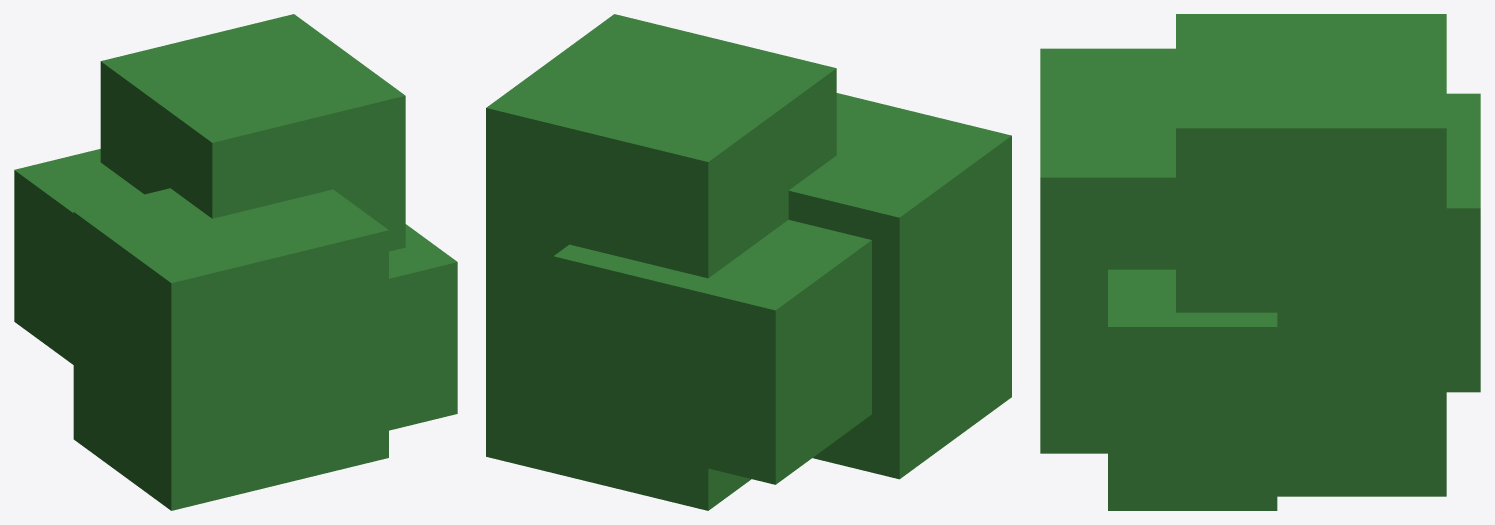
Rendered from Medieval Assets-8-Vegetation - Tree top - Cube - Light Green.obj.
3 renders of one model, left to right at view 1: azimuth 30°, elevation 25°; view 2: azimuth 150°, elevation 25°; view 3: azimuth 270°, elevation 25°, orthographic. The views are drawn at different scales.
Parts seen in each view (by area): view 1: Vegetation - Tree top - Cube - Light Green; view 2: Vegetation - Tree top - Cube - Light Green; view 3: Vegetation - Tree top - Cube - Light Green.
Part boxes in pixels (x1,y1,x2,y2): Vegetation - Tree top - Cube - Light Green: (14,14,457,510); Vegetation - Tree top - Cube - Light Green: (486,14,1011,510); Vegetation - Tree top - Cube - Light Green: (1040,14,1480,510).
Bounding box in the file's own units: 1.3 × 1.2 × 1.3.
1 material, 1 textured.
